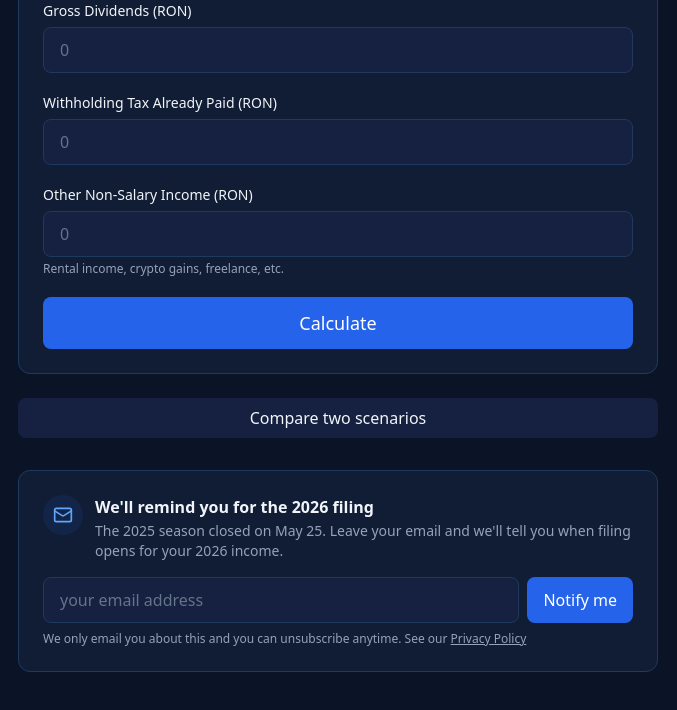
Scenario: WhatIfSimulator › shows the CASS cliff callout with the correct lump difference across a bracket
(page scrolled)
Click the button "Compare two scenarios" at (338, 418), box [18,398,658,438]
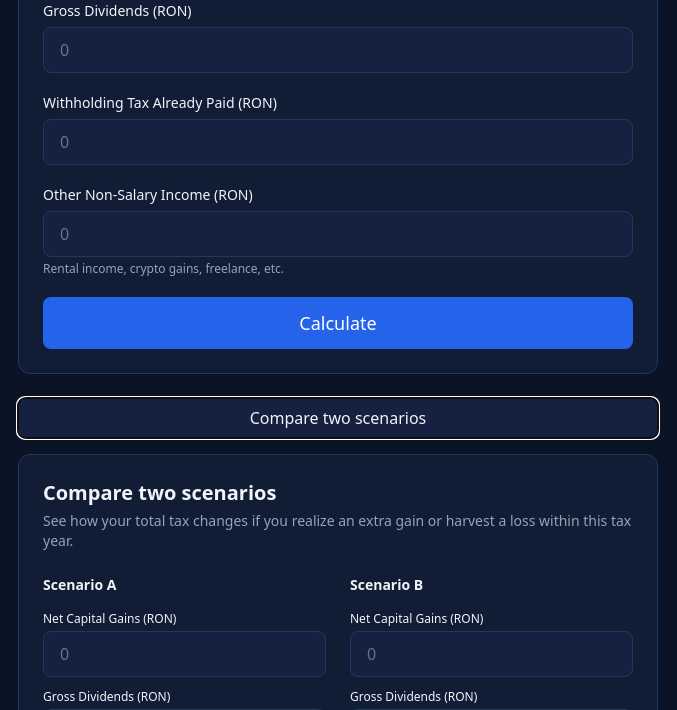
Type "40000" into the field with placeholder "0" below "Scenario A" at (184, 654), box [43,631,326,677]
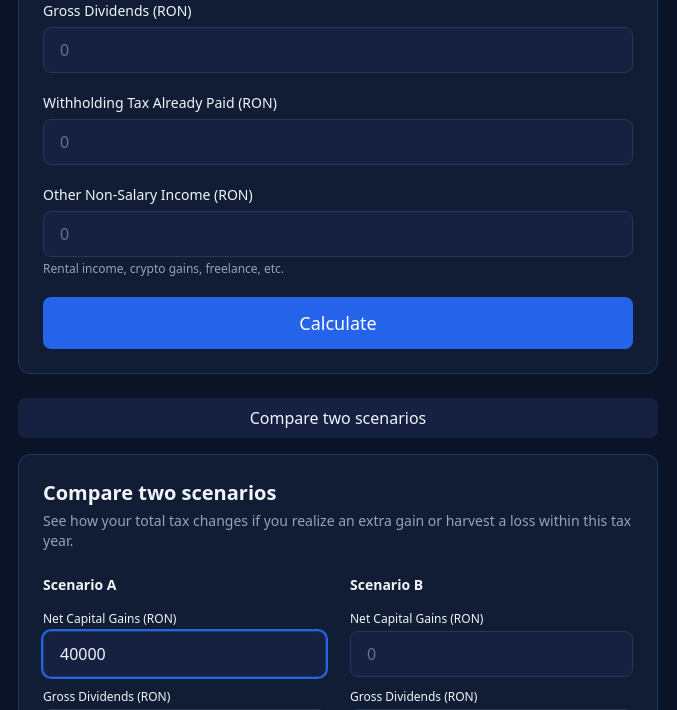
Type "100000" into the field with placeholder "0" below "Scenario B" at (492, 654), box [350,631,633,677]
(page scrolled)
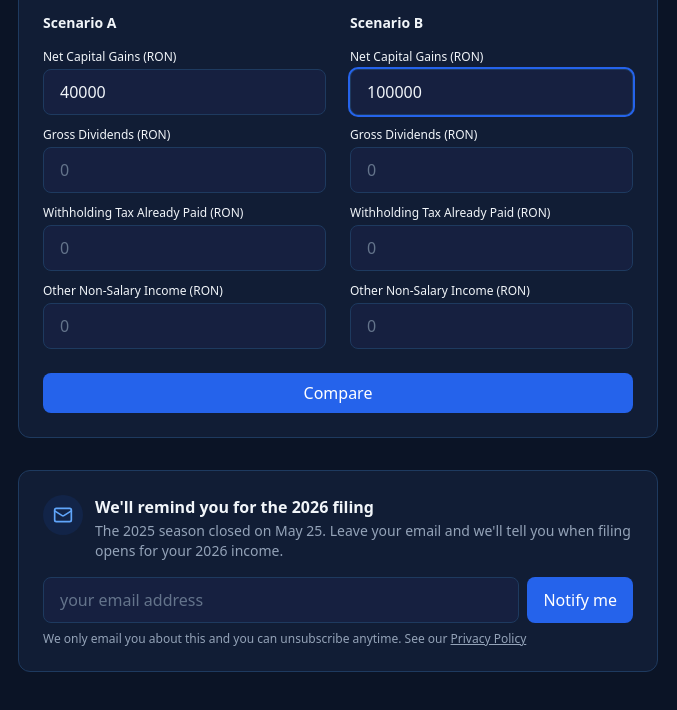
Click the button "Compare" at (338, 393), box [43,373,633,413]
(page scrolled)
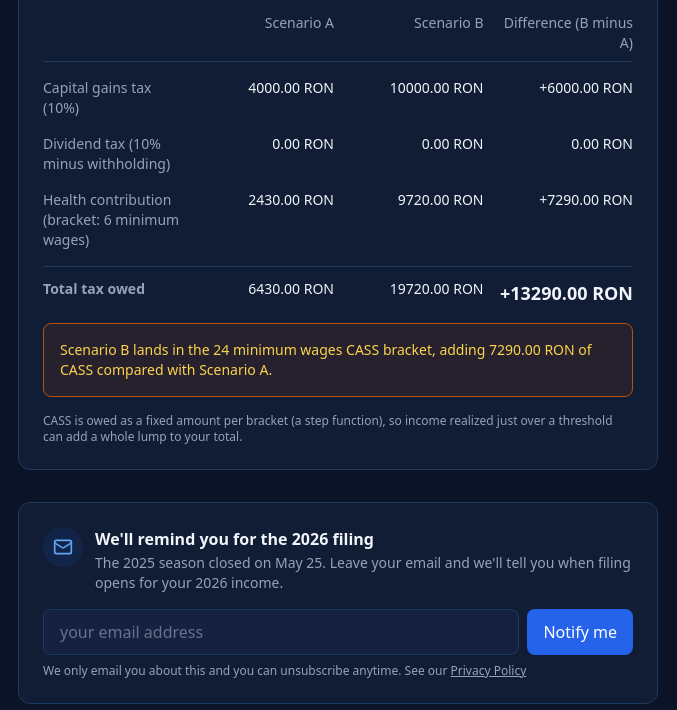
Check: the text "7290.00" is shown, box [60,340,592,379]
Check: the text "Scenario B" is shown, box [60,340,592,379]
Check: the text "24 minimum wages" is shown, box [60,340,592,379]
